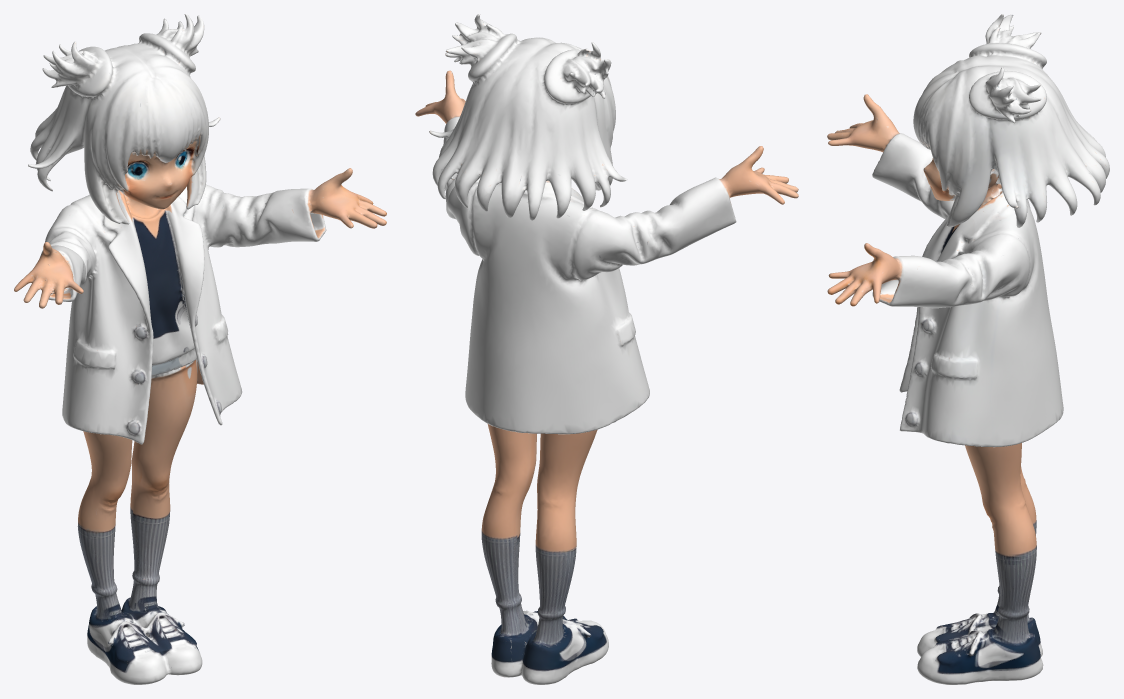
File: remeshed.glb
3 views of the same model, side by side, from view 1: azimuth 30°, elevation 25°; view 2: azimuth 150°, elevation 25°; view 3: azimuth 270°, elevation 25° (orthographic). The views are drawn at different scales.
Parts seen in each view (by area): view 1: Mesh1.0; view 2: Mesh1.0; view 3: Mesh1.0.
Part boxes in pixels (x1,y1,x2,y2): Mesh1.0: (14, 14, 386, 684); Mesh1.0: (415, 14, 798, 684); Mesh1.0: (827, 14, 1109, 684).
Size of the model in its own units: 1.16 by 1.91 by 0.7803.
1 material, 1 textured.
